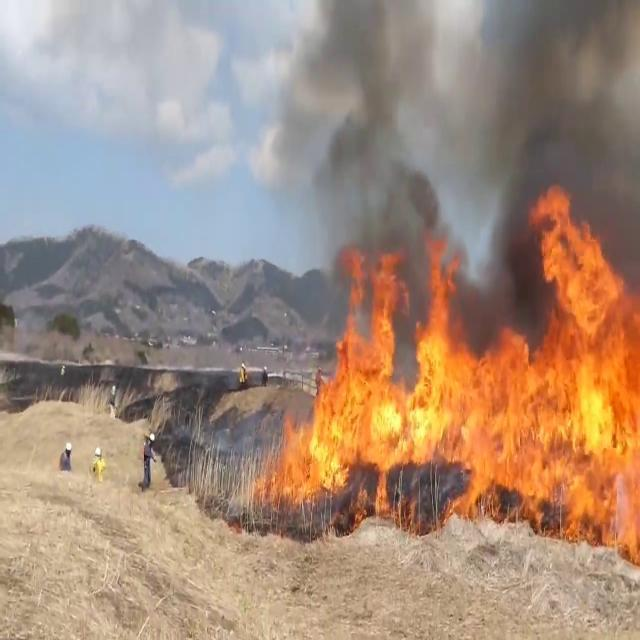Fire: (272, 242, 640, 529)
Smoke: (274, 0, 640, 302)
